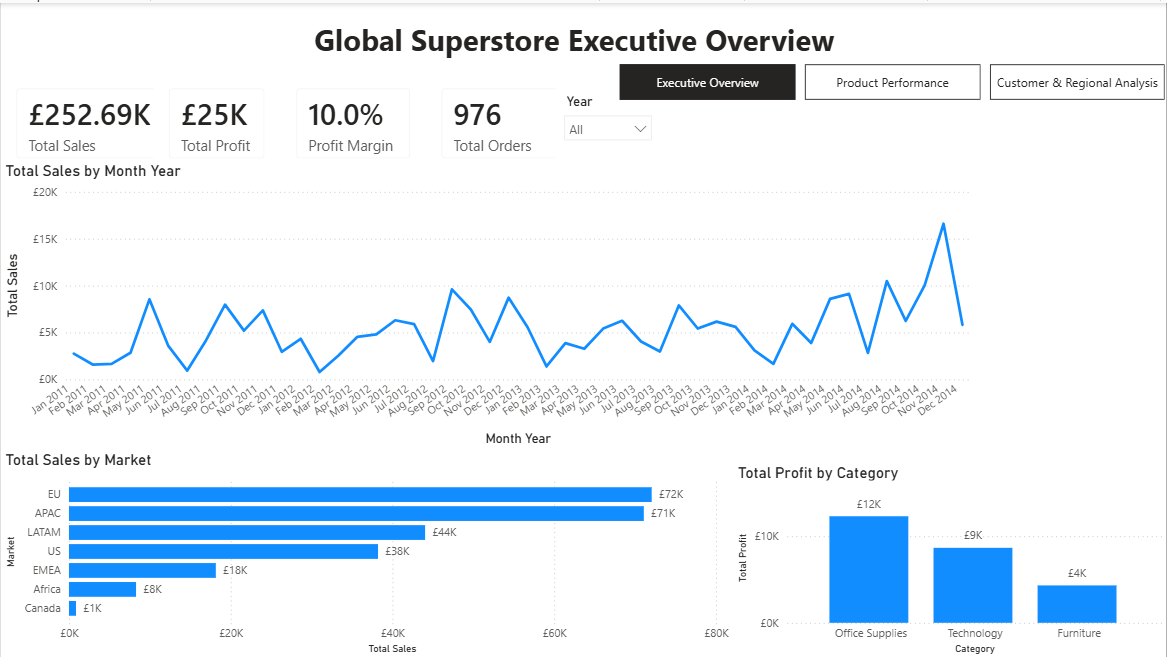

Layout of this report page (visuals, bound fields, positions):
{"tool":"powerbi","page":{"name":"Executive Overview","canvas":[1280,720],"ordinal":0},"visuals":[{"type":"cardVisual","fields":{"Data":["_Measures.Total Sales"]},"box":[0,76.8,209.9,111.1],"z":0},{"type":"cardVisual","fields":{"Data":["_Measures.Total Profit"]},"box":[167.4,76.8,140,111.1],"z":1000},{"type":"cardVisual","fields":{"Data":["_Measures.Profit Margin"]},"box":[307.4,76.8,159.2,111.1],"z":2000},{"type":"cardVisual","fields":{"Data":["_Measures.Total Orders"]},"box":[466.6,76.8,163.3,111.1],"z":3000},{"type":"lineChart","fields":{"Category":["Dim Date.Month Year"],"Y":["_Measures.Total Sales"]},"box":[0,174.3,1069,317],"z":4000},{"type":"clusteredBarChart","fields":{"Category":["Dim Geography.Market"],"Y":["_Measures.Total Sales"]},"box":[0,491.3,804.1,229.2],"z":5000},{"type":"clusteredColumnChart","fields":{"Category":["Dim Product.Category"],"Y":["_Measures.Total Profit"]},"box":[804.1,505,476.2,215.4],"z":6000},{"type":"textbox","box":[338.9,13.7,581.8,53.5],"z":7000},{"type":"slicer","fields":{"Values":["Dim Date.Year"]},"box":[607.9,94.7,116.6,76.8],"z":8000},{"type":"pageNavigator","box":[679.2,67.2,601,39.8],"z":9000}]}

Visuals, with their boxes in screenshot pixels (x1, y1, x2, y2), scaled from the page's 1280x720 canvas onto the 1167x657 screenshot:
cardVisual - _Measures.Total Sales: pyautogui.locateOnScreen(0, 70, 191, 171)
cardVisual - _Measures.Total Profit: pyautogui.locateOnScreen(153, 70, 280, 171)
cardVisual - _Measures.Profit Margin: pyautogui.locateOnScreen(280, 70, 425, 171)
cardVisual - _Measures.Total Orders: pyautogui.locateOnScreen(425, 70, 574, 171)
lineChart - Dim Date.Month Year x _Measures.Total Sales: pyautogui.locateOnScreen(0, 159, 975, 448)
clusteredBarChart - Dim Geography.Market x _Measures.Total Sales: pyautogui.locateOnScreen(0, 448, 733, 656)
clusteredColumnChart - Dim Product.Category x _Measures.Total Profit: pyautogui.locateOnScreen(733, 461, 1166, 656)
textbox: pyautogui.locateOnScreen(309, 13, 839, 61)
slicer - Dim Date.Year: pyautogui.locateOnScreen(554, 86, 661, 156)
pageNavigator: pyautogui.locateOnScreen(619, 61, 1166, 98)
